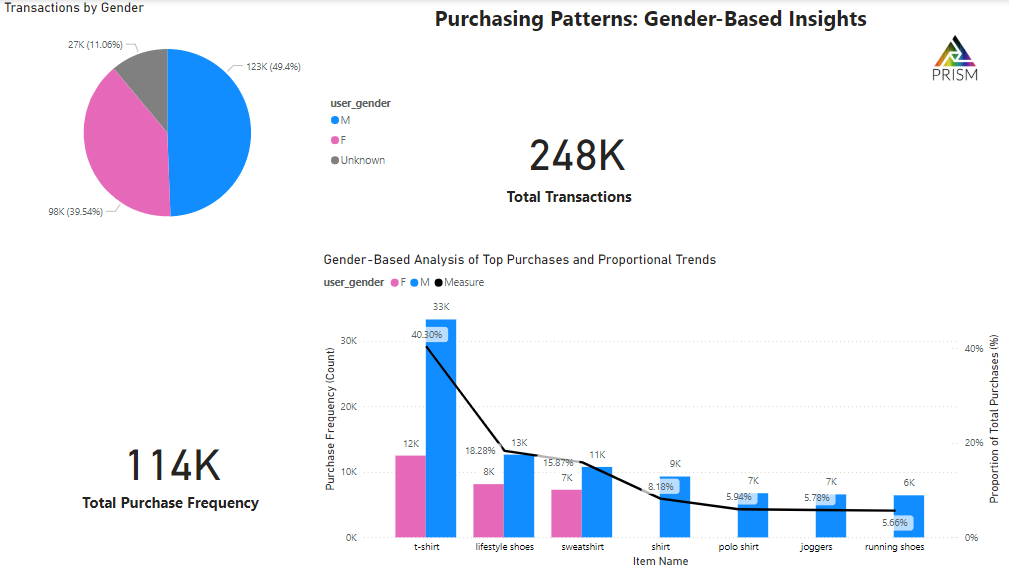

This screenshot's page, from the dashboard's own definition file:
{"tool":"powerbi","page":{"name":"Demographics","canvas":[1280,720],"ordinal":2},"visuals":[{"type":"pieChart","title":"Transactions by Gender","fields":{"Category":["Top purchases by gender.user_gender"],"Y":["Sum(Top purchases by gender.transaction_count)"]},"box":[0,0,516,317],"z":0},{"type":"lineClusteredColumnComboChart","title":"Gender-Based Analysis of Top Purchases and Proportional Trends","fields":{"Category":["TOP PURCHASES FROM GENDERS IN CATEGORIES.item_name"],"Series":["TOP PURCHASES FROM GENDERS IN CATEGORIES.user_gender"],"Y":["Sum(TOP PURCHASES FROM GENDERS IN CATEGORIES.purchase_frequency)"],"Y2":["City and Gender.Measure"]},"box":[403.4,317,861.8,403.4],"z":1000},{"type":"card","fields":{"Values":["Sum(TOP PURCHASES FROM GENDERS IN CATEGORIES.purchase_frequency)"]},"box":[97.4,518.7,236,145.5],"z":2000},{"type":"card","fields":{"Values":["Sum(Top purchases by gender.transaction_count)"]},"box":[581.8,148.2,288.2,105.7],"z":3000},{"type":"textbox","box":[634,230.5,236,48],"z":4000},{"type":"textbox","box":[97.4,616.1,293.7,48],"z":5000},{"type":"textbox","box":[542,0,655.9,150.9],"z":6000},{"type":"image","box":[1126.6,0,153.7,148.2],"z":7000}]}

Visuals, with their boxes in screenshot pixels (x1, y1, x2, y2), scaled from the page's 1280x720 canvas onto the 1009x565 screenshot:
"Transactions by Gender" pieChart: Rect(0, 0, 407, 249)
"Gender-Based Analysis of Top Purchases and Proportional Trends" lineClusteredColumnComboChart: Rect(318, 249, 997, 564)
card - Sum(TOP PURCHASES FROM GENDERS IN CATEGORIES.purchase_frequency): Rect(77, 407, 263, 521)
card - Sum(Top purchases by gender.transaction_count): Rect(459, 116, 686, 199)
textbox: Rect(500, 181, 686, 219)
textbox: Rect(77, 483, 308, 521)
textbox: Rect(427, 0, 944, 118)
image: Rect(888, 0, 1008, 116)
